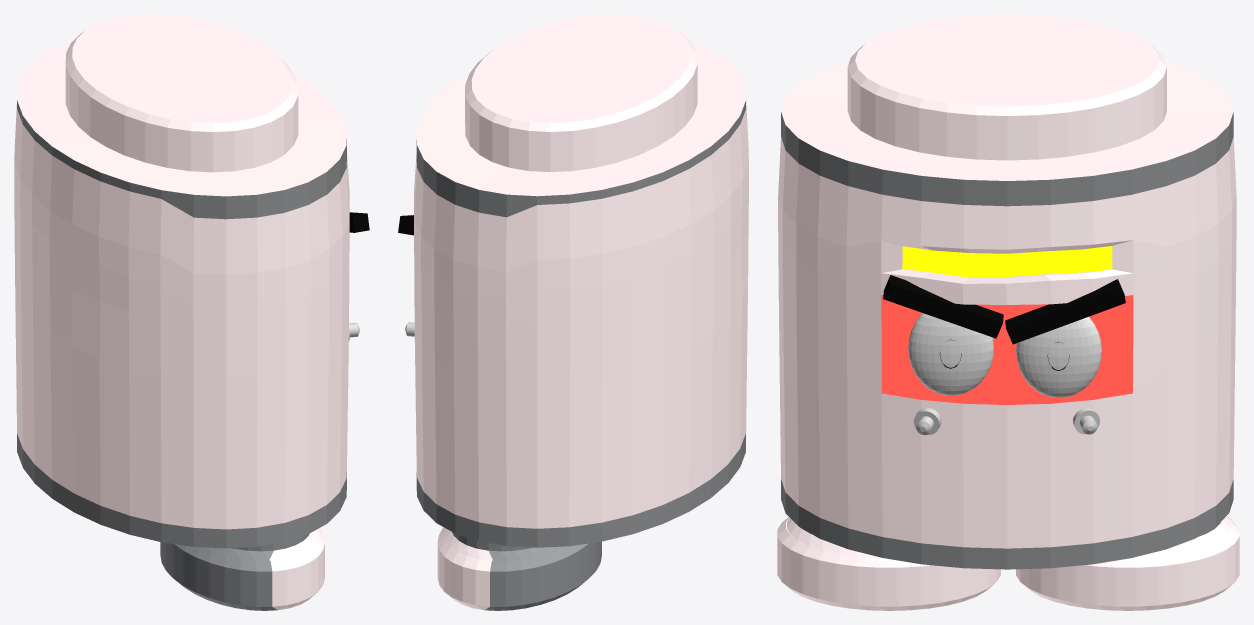
File: mastercylinder.glb
3 views of the same model, side by side, from view 1: azimuth 30°, elevation 25°; view 2: azimuth 150°, elevation 25°; view 3: azimuth 270°, elevation 25° (orthographic). The views are drawn at different scales.
Visible parts, largest first — view 1: Cylinder, Cylinder.004; view 2: Cylinder, Cylinder.004; view 3: Cylinder, Cylinder.004, Cylinder.001, Cube, Sphere, Sphere.001.
Boxes of the visible parts, x1,y1,x2,y2 form: Cylinder: [14, 14, 349, 548]; Cylinder.004: [160, 528, 324, 610]; Cylinder: [414, 14, 748, 547]; Cylinder.004: [437, 527, 601, 610]; Cylinder: [778, 14, 1236, 569]; Cylinder.004: [777, 516, 1239, 610]; Cylinder.001: [881, 295, 1133, 404]; Cube: [883, 275, 1125, 344]; Sphere: [908, 313, 993, 395]; Sphere.001: [1016, 316, 1101, 397].
Bounding box in the file's own units: 1.58 × 2.61 × 2.12.
